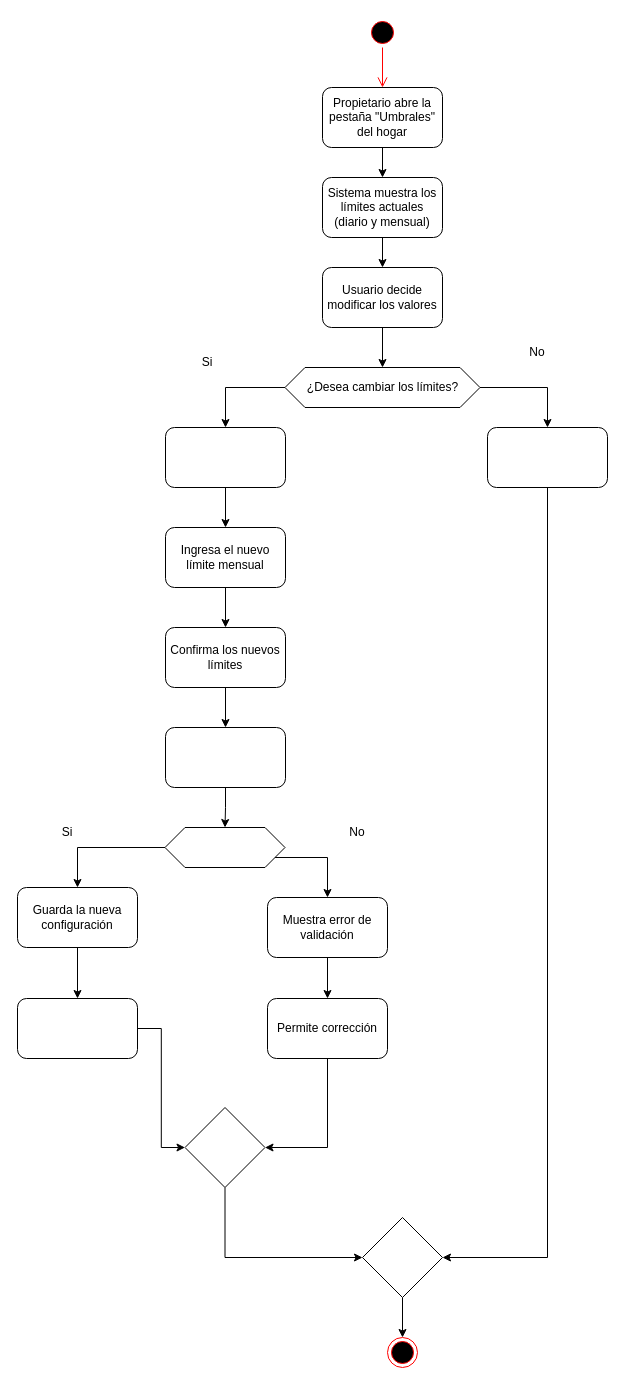
This 625x1385 diagram has some shape labels left out. The box of each missing label's shape, as (x1, y1, x2, y2) in pixels:
Ingresa el nuevo límite diario: (164, 426, 286, 488)
Muestra mensaje de éxito: (16, 998, 138, 1058)
Sale sin cambios: (486, 426, 608, 488)
Valida los datos ingresados: (164, 726, 286, 788)
¿Datos válidos?: (164, 826, 285, 868)
